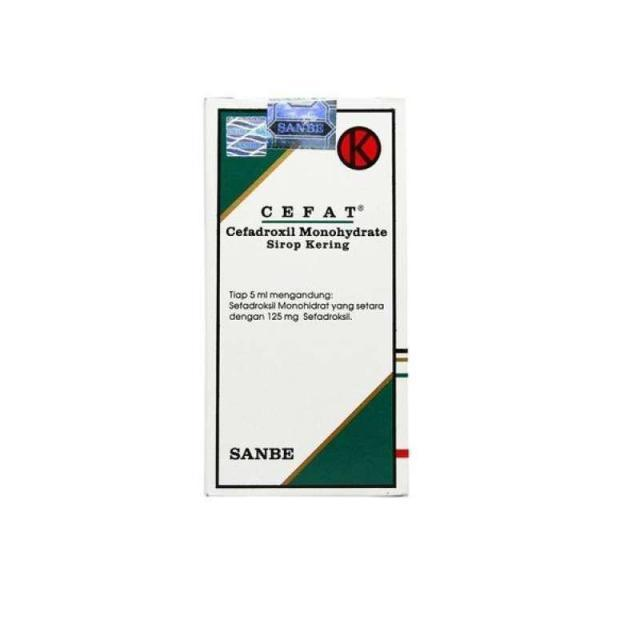drug-name: (256, 202, 366, 222)
